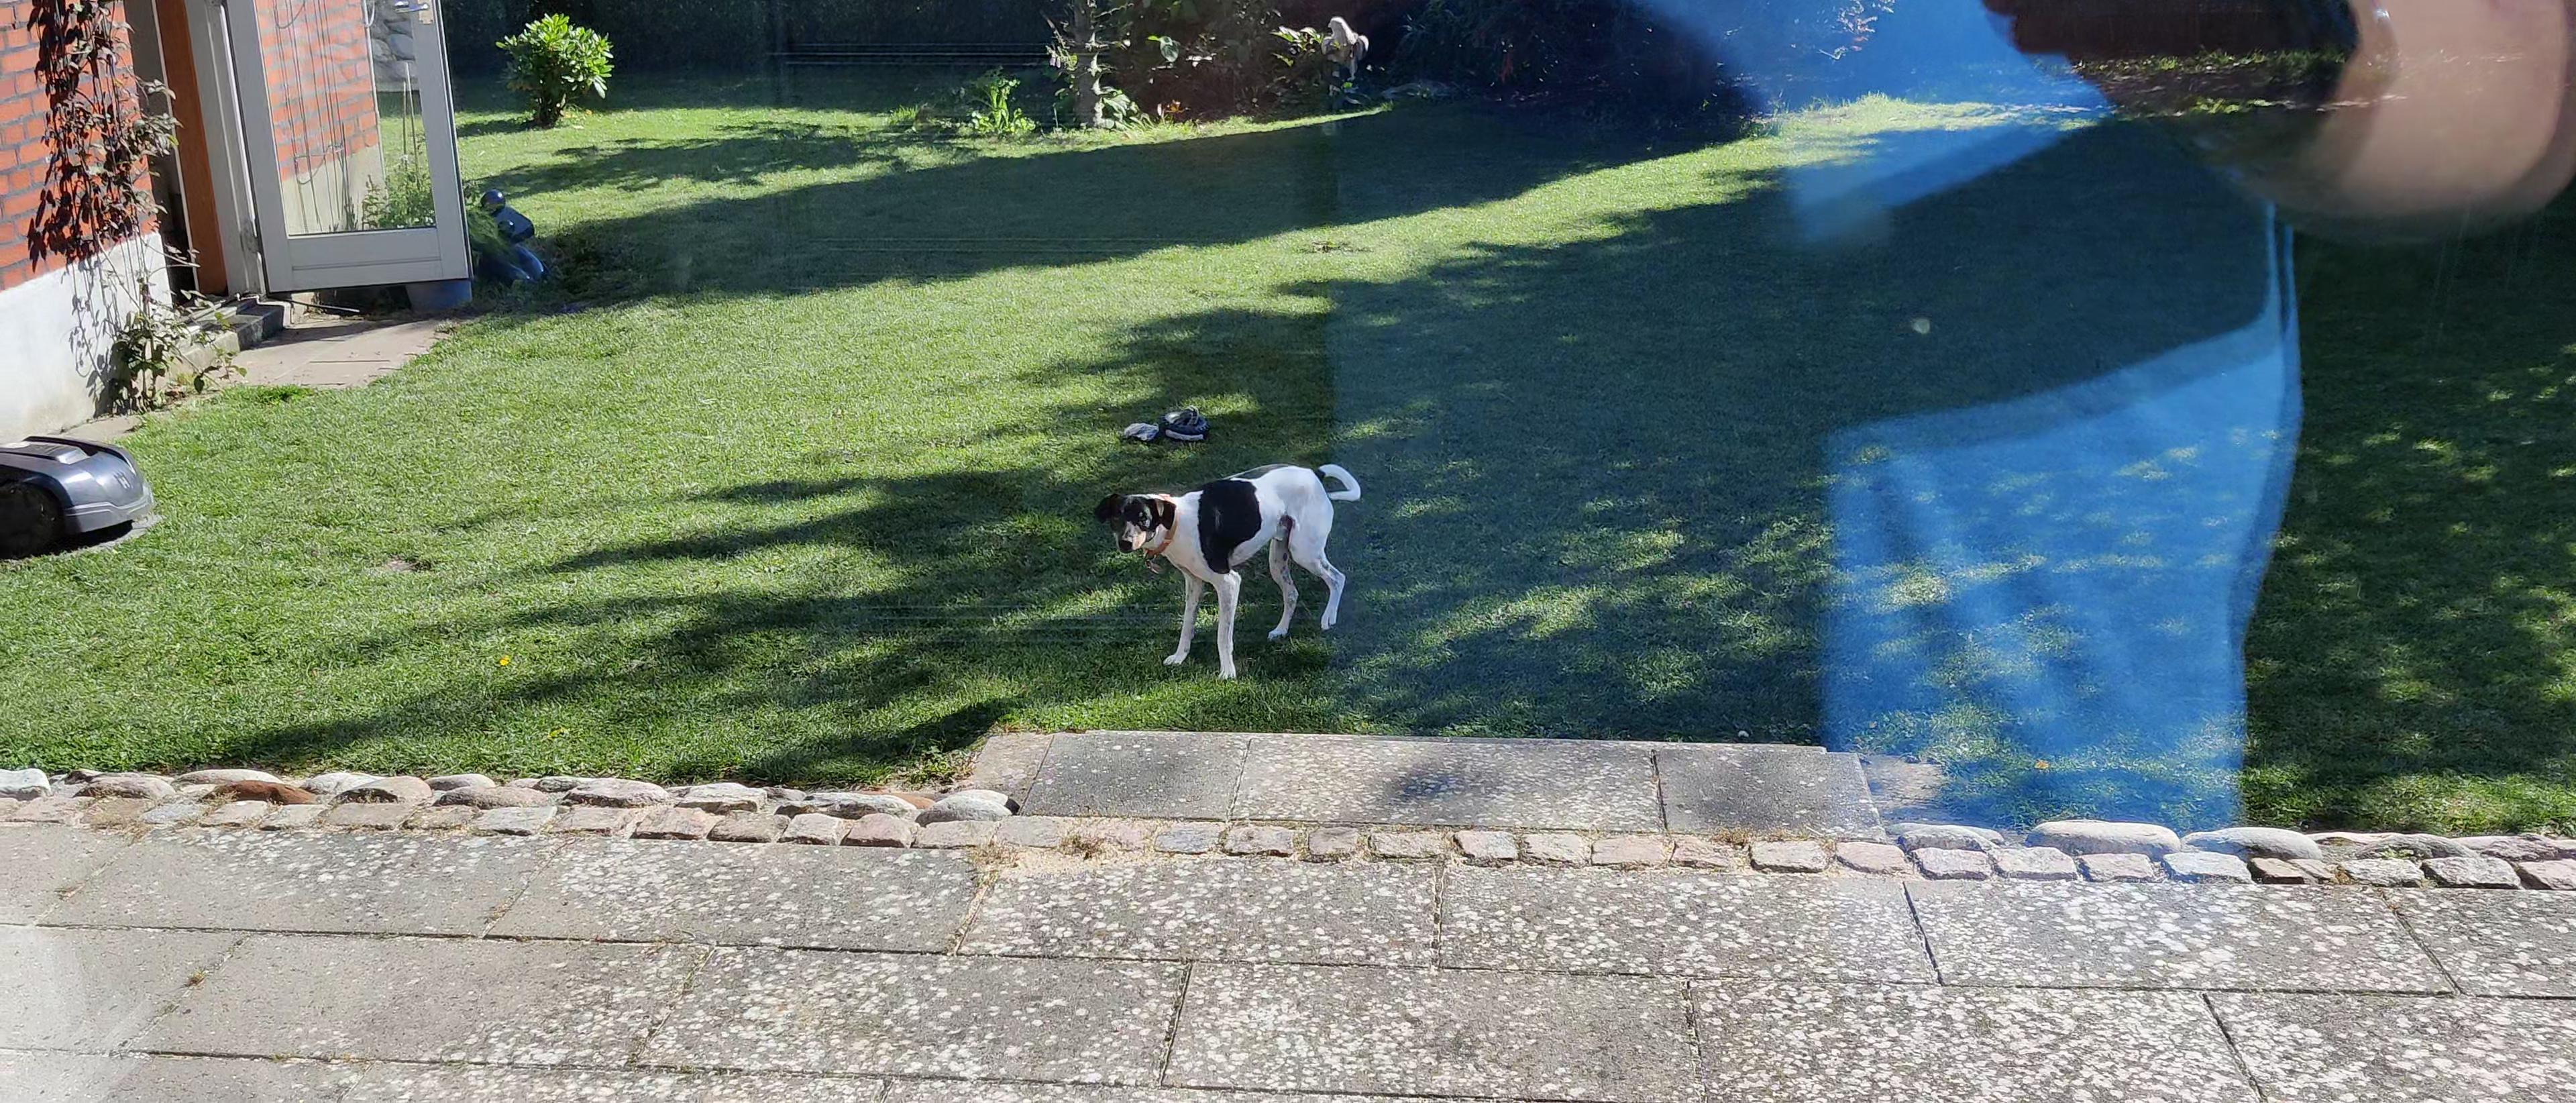Dog: (1078, 457, 1383, 687)
